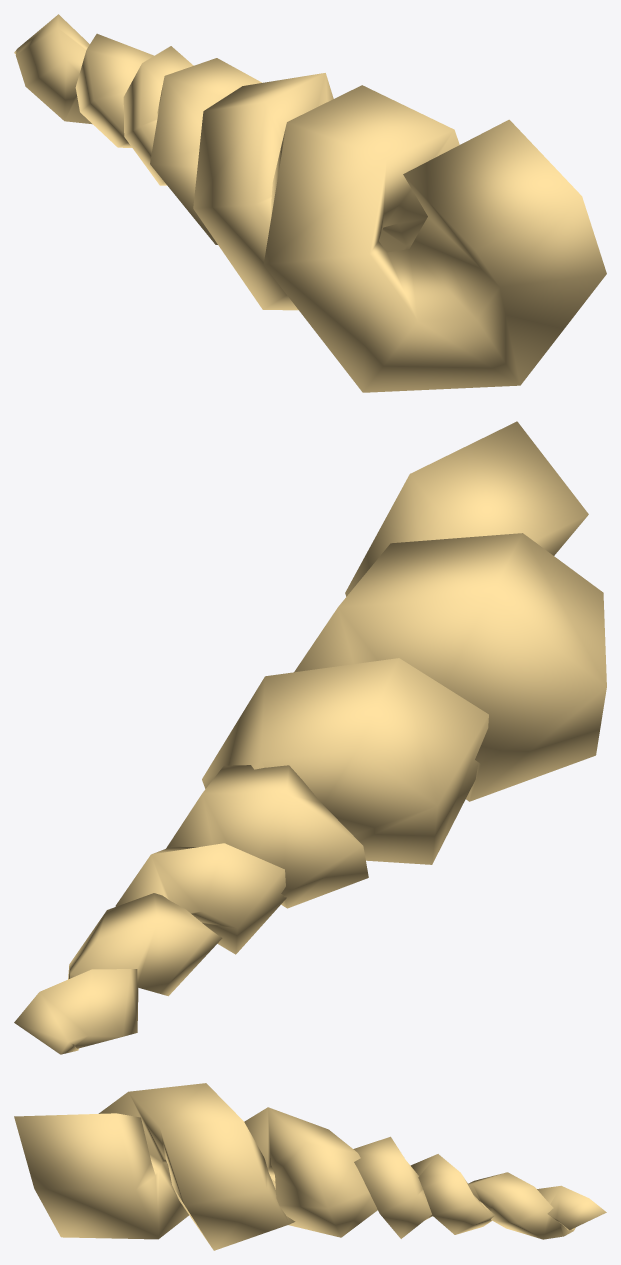
File: Spiral Shell 3_001.glb
3 renders of one model, top to bottom at view 1: azimuth 30°, elevation 25°; view 2: azimuth 150°, elevation 25°; view 3: azimuth 270°, elevation 25°, orthographic. The views are drawn at different scales.
Parts seen in each view (by area): view 1: Spiral Shell 3_001; view 2: Spiral Shell 3_001; view 3: Spiral Shell 3_001.
Boxes of the visible parts, x1,y1,x2,y2 form: Spiral Shell 3_001: (14,14,606,392); Spiral Shell 3_001: (14,421,606,1054); Spiral Shell 3_001: (14,1083,606,1250).
Size of the model in its own units: 0.0797 by 0.0727 by 0.2669.
Materials: 1 (1 with a texture image).
